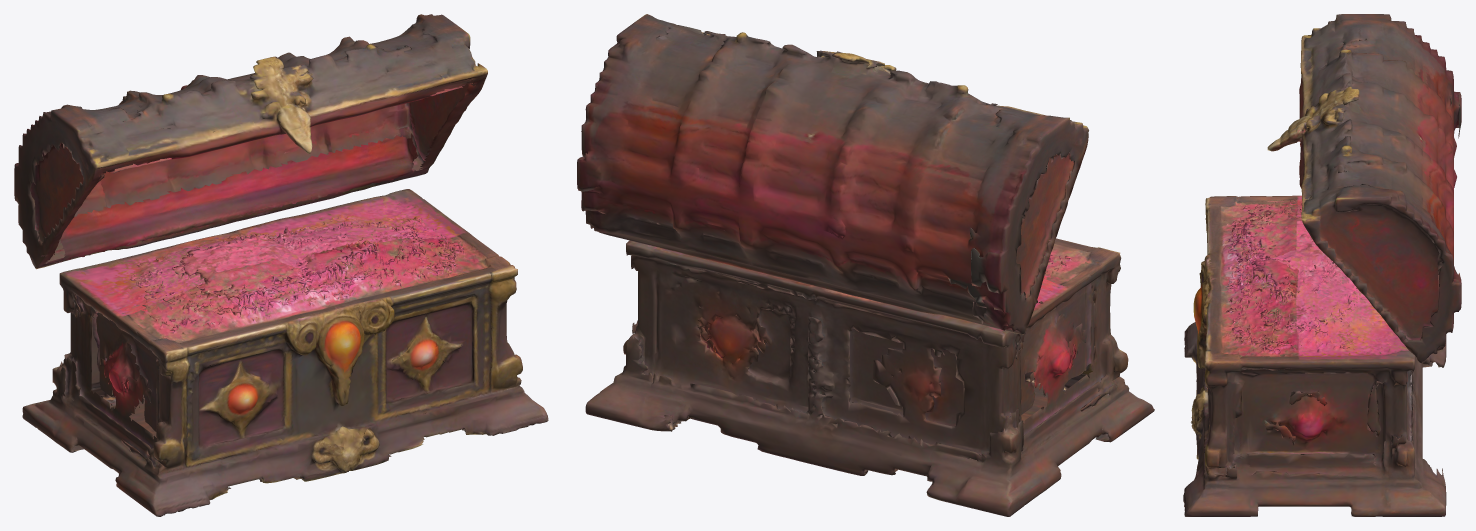
The model's file is Meshy_AI_chest_that_is_mystica_1115233032_texture.glb.
3 renders of one model, left to right at view 1: azimuth 30°, elevation 25°; view 2: azimuth 150°, elevation 25°; view 3: azimuth 270°, elevation 25°, orthographic. The views are drawn at different scales.
Bounding box in the file's own units: 1.78 × 1.51 × 1.12.
Materials: 1 (1 with a texture image).
